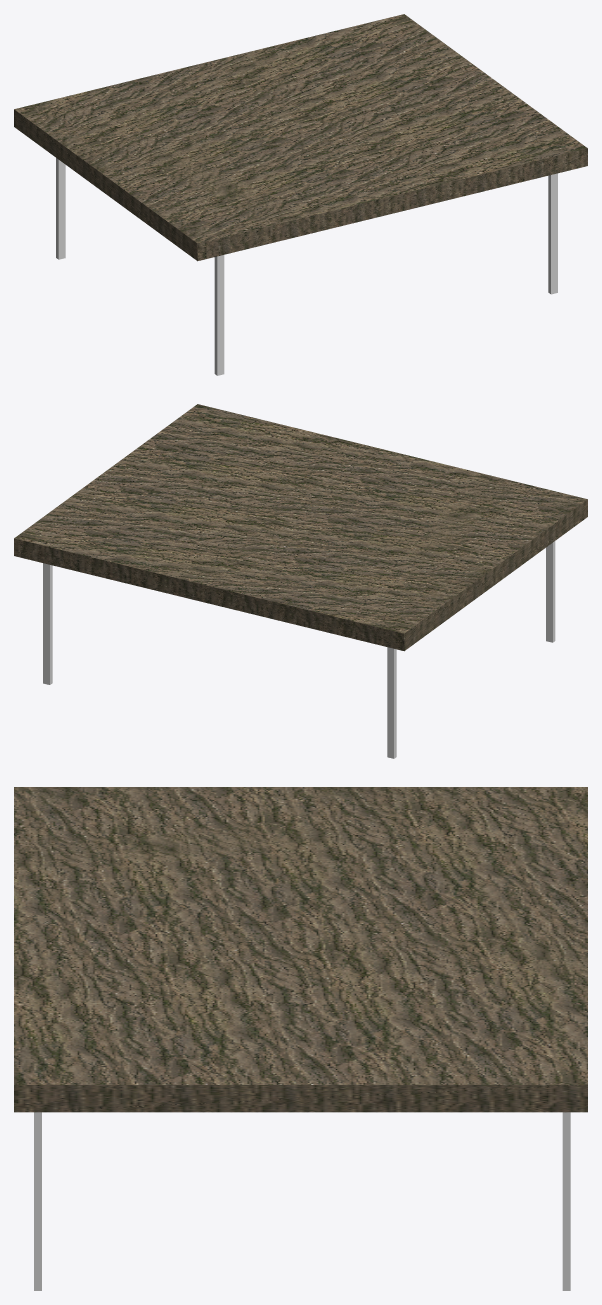
Rendered from wood.fbx.
3 views of the same model, one above another, from view 1: azimuth 30°, elevation 25°; view 2: azimuth 150°, elevation 25°; view 3: azimuth 270°, elevation 25° (orthographic). The views are drawn at different scales.
Parts seen in each view (by area): view 1: Cube, Cube.003, Cube.002, Cube.004; view 2: Cube, Cube.001, Cube.004, Cube.003; view 3: Cube, Cube.001, Cube.002.
Part boxes in pixels (<box>): Cube: <box>14,14,587,261</box>; Cube.003: <box>214,255,224,375</box>; Cube.002: <box>548,173,557,294</box>; Cube.004: <box>56,158,65,259</box>; Cube: <box>14,404,587,651</box>; Cube.001: <box>43,563,52,684</box>; Cube.004: <box>387,647,396,758</box>; Cube.003: <box>546,541,555,642</box>; Cube: <box>14,787,587,1112</box>; Cube.001: <box>562,1112,570,1290</box>; Cube.002: <box>34,1112,41,1290</box>.
Bounding box in the file's own units: 6.51 × 2.28 × 5.3.
